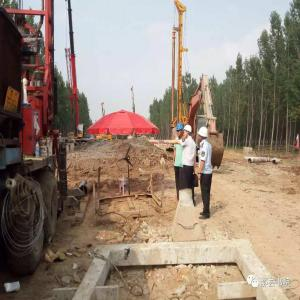blue: (176, 123, 185, 140)
white: (198, 127, 209, 143), (183, 125, 193, 141)
